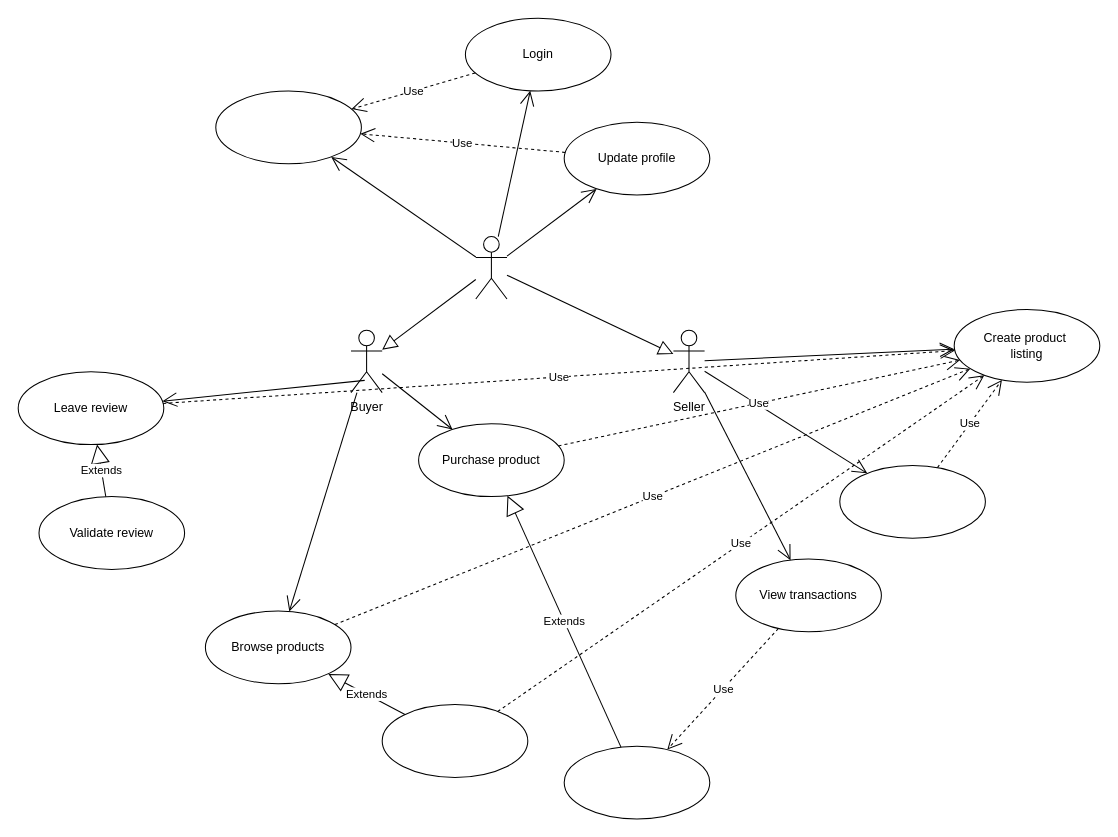
The diagram is 1118 pixels wide and 837 high, and some of its shapes have lost their labels. Each missing label, with the box of its shape:
Edit product listing: (839, 464, 985, 538)
Process payment: (563, 745, 710, 819)
Register account: (215, 90, 361, 164)
User: (475, 236, 507, 299)
View product details: (381, 704, 528, 777)
